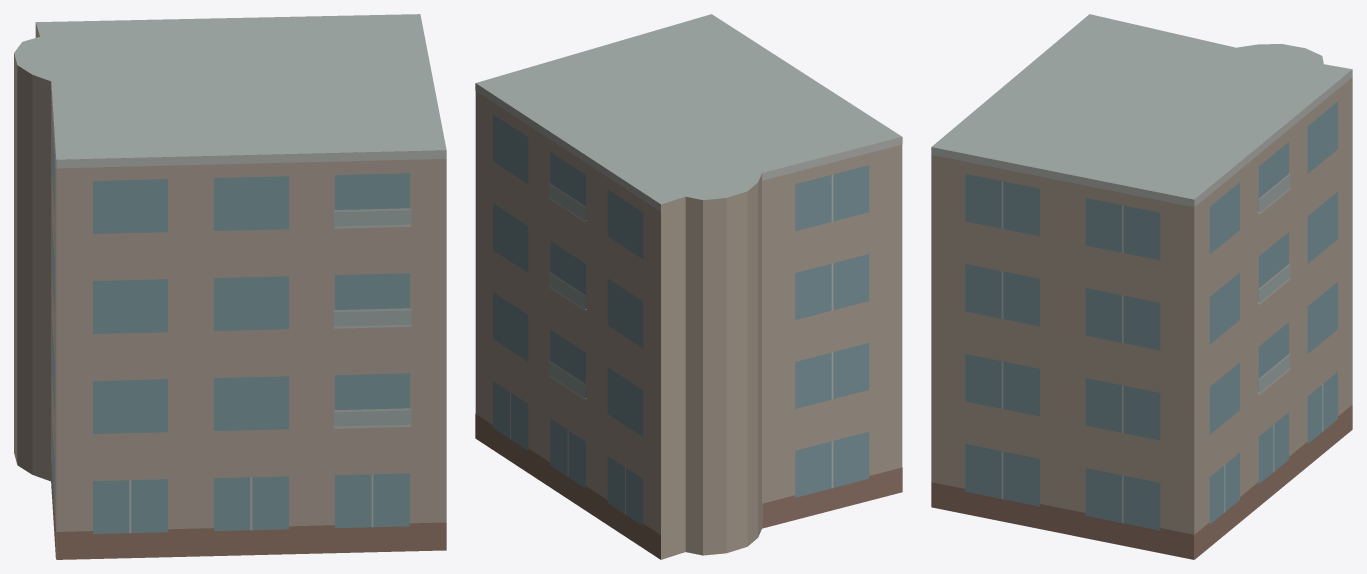
Rendered from survey-upis-32728716.glb.
3 renders of one model, left to right at view 1: azimuth 30°, elevation 25°; view 2: azimuth 150°, elevation 25°; view 3: azimuth 270°, elevation 25°, orthographic. The views are drawn at different scales.
Visible parts, largest first — view 1: survey-upis-32728716.tmp; view 2: survey-upis-32728716.tmp; view 3: survey-upis-32728716.tmp.
Part boxes in pixels (x1,y1,x2,y2): survey-upis-32728716.tmp: [14, 14, 446, 559]; survey-upis-32728716.tmp: [475, 14, 902, 559]; survey-upis-32728716.tmp: [931, 14, 1352, 559].
Size of the model in its own units: 12.49 by 11.3 by 11.99.
